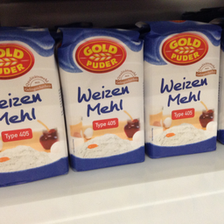flour: (55, 24, 145, 171), (143, 16, 221, 160), (1, 30, 71, 187)
